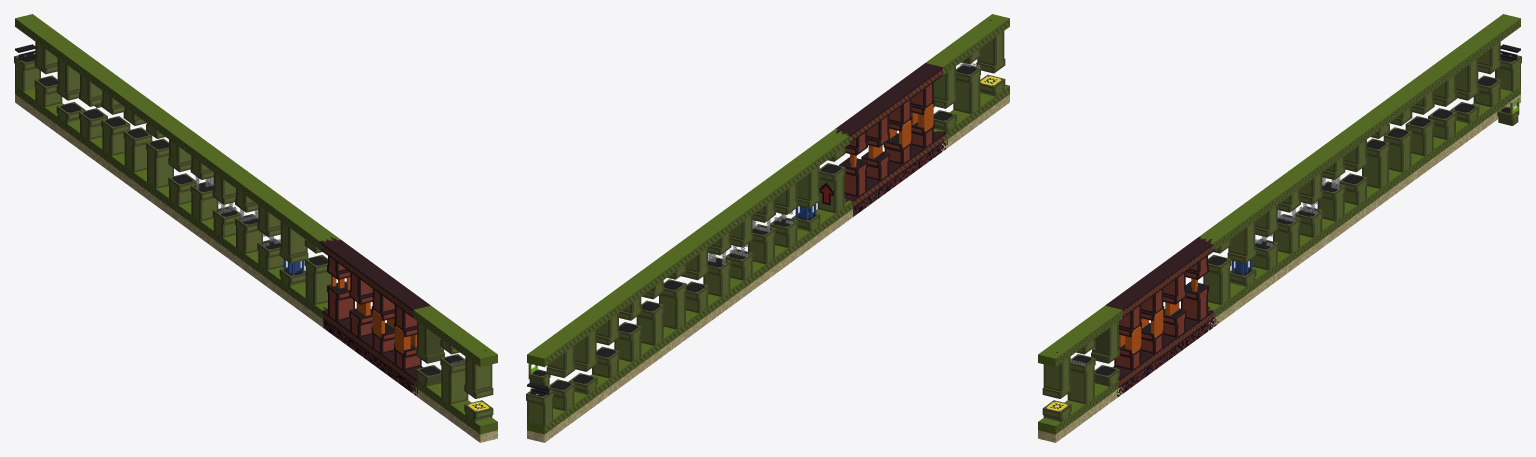
The model's file is minecraft.obj.
3 views of the same model, side by side, from view 1: azimuth 30°, elevation 25°; view 2: azimuth 150°, elevation 25°; view 3: azimuth 330°, elevation 25° (orthographic).
Size of the model in its own units: 33 by 50 by 502.
